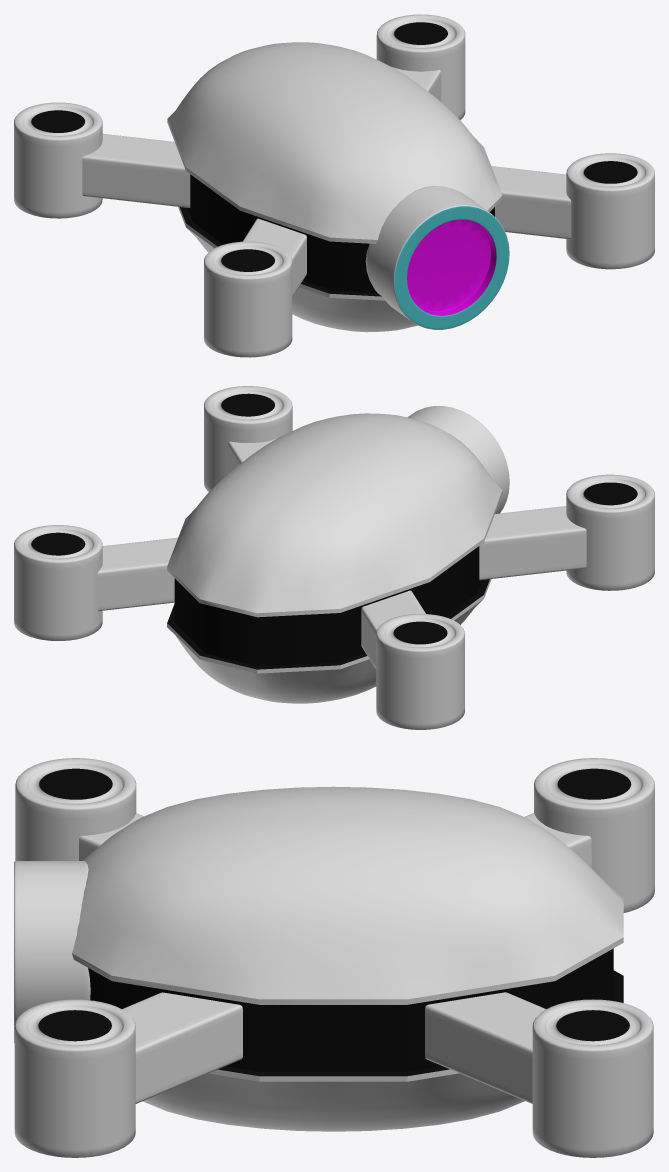
The model's file is drone.fbx.
3 views of the same model, one above another, from view 1: azimuth 30°, elevation 25°; view 2: azimuth 150°, elevation 25°; view 3: azimuth 270°, elevation 25° (orthographic). The views are drawn at different scales.
Visible parts, largest first — view 1: pasted__pCube551, pasted__pCylinder23, pasted__pCylinder27 (×2), pasted__pCylinder25, pasted__pCylinder21, pasted__pCube550, pasted__pCube554 (×2), pasted__pCube553; view 2: pasted__pCube551, pasted__pCylinder27 (×2), pasted__pCylinder21, pasted__pCylinder25, pasted__pCube553, pasted__pCube554 (×2), pasted__pCylinder23, pasted__pCube550; view 3: pasted__pCube551, pasted__pCylinder27 (×2), pasted__pCube554 (×2), pasted__pCylinder21, pasted__pCylinder25, pasted__pCylinder23, pasted__pCube550, pasted__pCube553.
Boxes of the visible parts, x1,y1,x2,y2 form: pasted__pCube551: (167, 42, 502, 332); pasted__pCylinder23: (365, 186, 509, 329); pasted__pCylinder27 (×2): (376, 14, 654, 269); pasted__pCylinder25: (204, 241, 292, 357); pasted__pCylinder21: (14, 102, 102, 218); pasted__pCube550: (82, 134, 190, 207); pasted__pCube554 (×2): (392, 67, 571, 239); pasted__pCube553: (243, 218, 306, 296); pasted__pCube551: (167, 413, 502, 703); pasted__pCylinder27 (×2): (14, 386, 292, 640); pasted__pCylinder21: (376, 614, 464, 729); pasted__pCylinder25: (566, 474, 654, 590); pasted__pCube553: (479, 506, 586, 580); pasted__pCube554 (×2): (97, 438, 276, 611); pasted__pCylinder23: (407, 406, 509, 513); pasted__pCube550: (361, 590, 425, 669); pasted__pCube551: (72, 786, 623, 1131); pasted__pCylinder27 (×2): (14, 999, 653, 1157); pasted__pCube554 (×2): (122, 992, 545, 1103); pasted__pCylinder21: (534, 758, 654, 912); pasted__pCylinder25: (15, 758, 136, 860); pasted__pCylinder23: (14, 861, 90, 1043); pasted__pCube550: (525, 813, 591, 867); pasted__pCube553: (79, 813, 143, 860).
Bounding box in the file's own units: 97.81 × 46 × 90.55.
